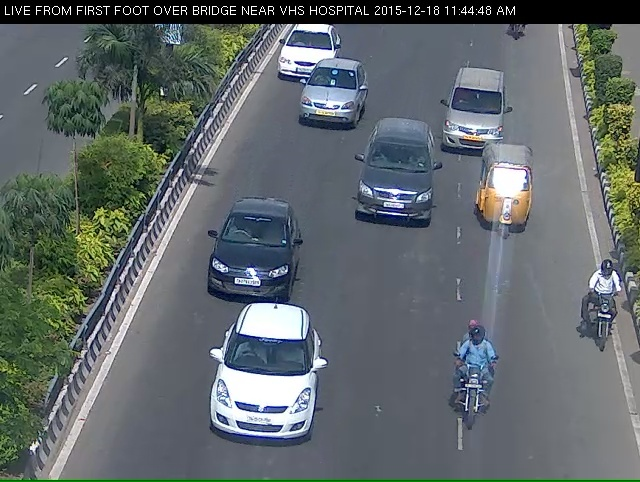Auto: (474, 151, 543, 252)
Car: (195, 339, 325, 478), (187, 222, 304, 329), (350, 127, 435, 246), (428, 69, 511, 169), (265, 24, 341, 91), (286, 69, 355, 134)
Person: (438, 338, 498, 457), (578, 272, 628, 370)
